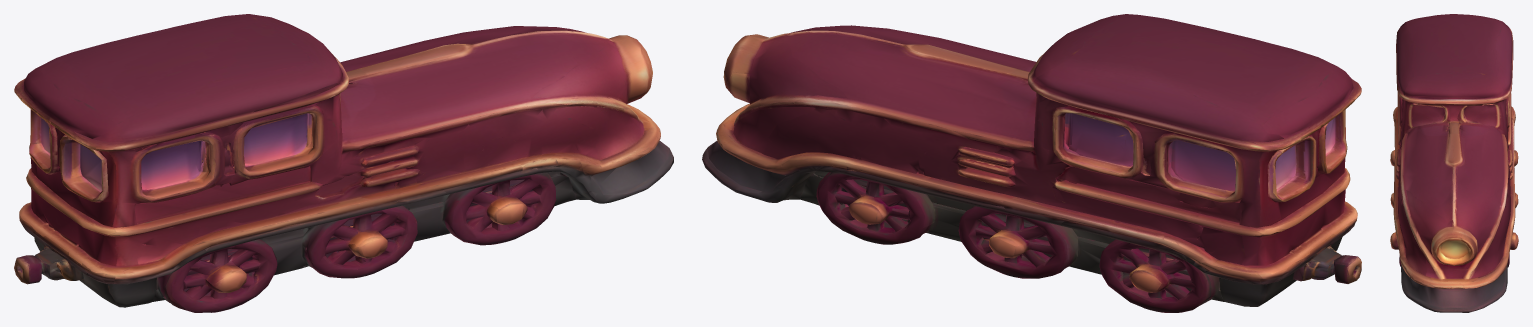
File: train_locomotive-DwXT-5oy.glb
3 renders of one model, left to right at view 1: azimuth 30°, elevation 25°; view 2: azimuth 150°, elevation 25°; view 3: azimuth 270°, elevation 25°, orthographic. The views are drawn at different scales.
Visible parts, largest first — view 1: train_locomotive; view 2: train_locomotive; view 3: train_locomotive.
Part boxes in pixels (left/top/right/bottom): train_locomotive: left=14, top=14, right=673, bottom=312; train_locomotive: left=702, top=14, right=1361, bottom=312; train_locomotive: left=1390, top=14, right=1518, bottom=312.
Size of the model in its own units: 10.5 by 3.56 by 2.98.
Materials: 1 (1 with a texture image).
